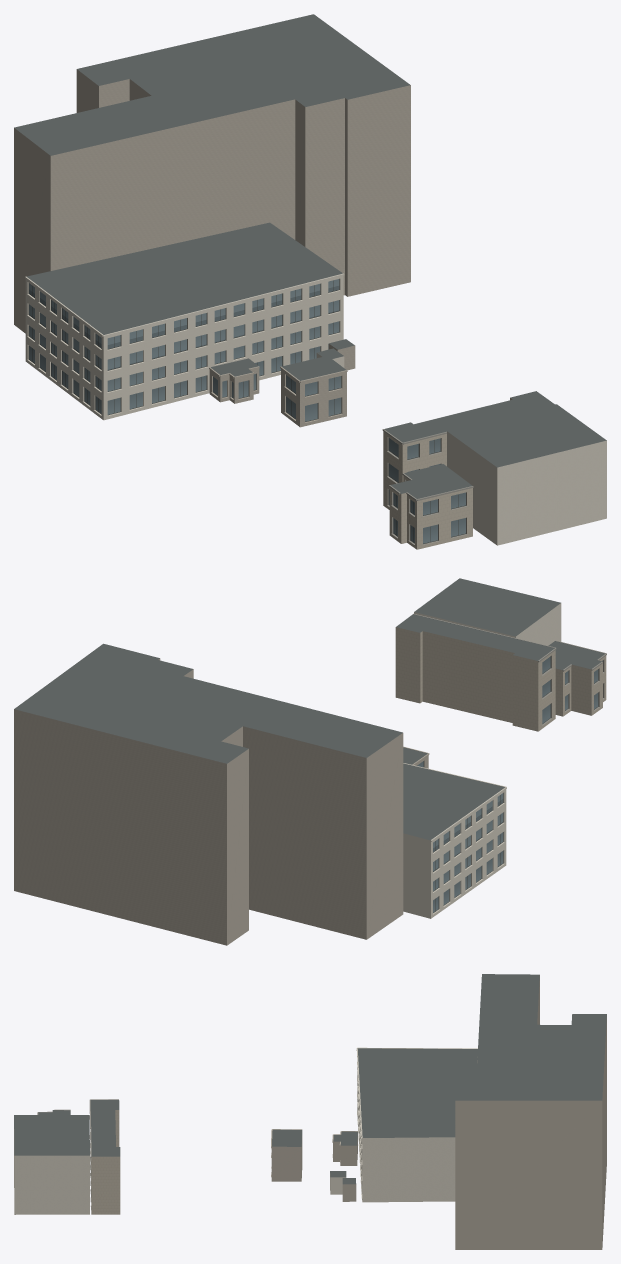
Rendered from near.gltf.
3 renders of one model, top to bottom at view 1: azimuth 30°, elevation 25°; view 2: azimuth 150°, elevation 25°; view 3: azimuth 270°, elevation 25°, orthographic. The views are drawn at different scales.
Visible parts, largest first — view 1: cell-e007-n001_near_tile-wall, cell-e007-n001_near_roof, cell-e007-n001_near_plaster, cell-e007-n001_near_glass, cell-e007-n001_near_stone, cell-e007-n001_near_frame, cell-e007-n001_near_granite; view 2: cell-e007-n001_near_tile-wall, cell-e007-n001_near_roof, cell-e007-n001_near_stone, cell-e007-n001_near_plaster, cell-e007-n001_near_glass, cell-e007-n001_near_granite, cell-e007-n001_near_frame; view 3: cell-e007-n001_near_roof, cell-e007-n001_near_tile-wall, cell-e007-n001_near_plaster, cell-e007-n001_near_stone.
Boxes of the visible parts, bbox=[...] form: cell-e007-n001_near_tile-wall: bbox=[14, 69, 410, 427]; cell-e007-n001_near_roof: bbox=[14, 14, 606, 498]; cell-e007-n001_near_plaster: bbox=[25, 273, 606, 545]; cell-e007-n001_near_glass: bbox=[29, 279, 465, 543]; cell-e007-n001_near_stone: bbox=[383, 398, 512, 549]; cell-e007-n001_near_frame: bbox=[28, 279, 466, 543]; cell-e007-n001_near_granite: bbox=[382, 429, 473, 544]; cell-e007-n001_near_tile-wall: bbox=[14, 658, 429, 945]; cell-e007-n001_near_roof: bbox=[14, 578, 604, 840]; cell-e007-n001_near_stone: bbox=[395, 627, 606, 731]; cell-e007-n001_near_plaster: bbox=[403, 603, 561, 918]; cell-e007-n001_near_glass: bbox=[417, 656, 602, 912]; cell-e007-n001_near_granite: bbox=[413, 613, 606, 725]; cell-e007-n001_near_frame: bbox=[423, 656, 603, 912]; cell-e007-n001_near_roof: bbox=[14, 974, 606, 1184]; cell-e007-n001_near_tile-wall: bbox=[271, 975, 606, 1249]; cell-e007-n001_near_plaster: bbox=[14, 1047, 477, 1214]; cell-e007-n001_near_stone: bbox=[90, 1110, 120, 1214].
Size of the model in its own units: 50.83 by 25.68 by 92.46.
7 materials, 5 textured.
